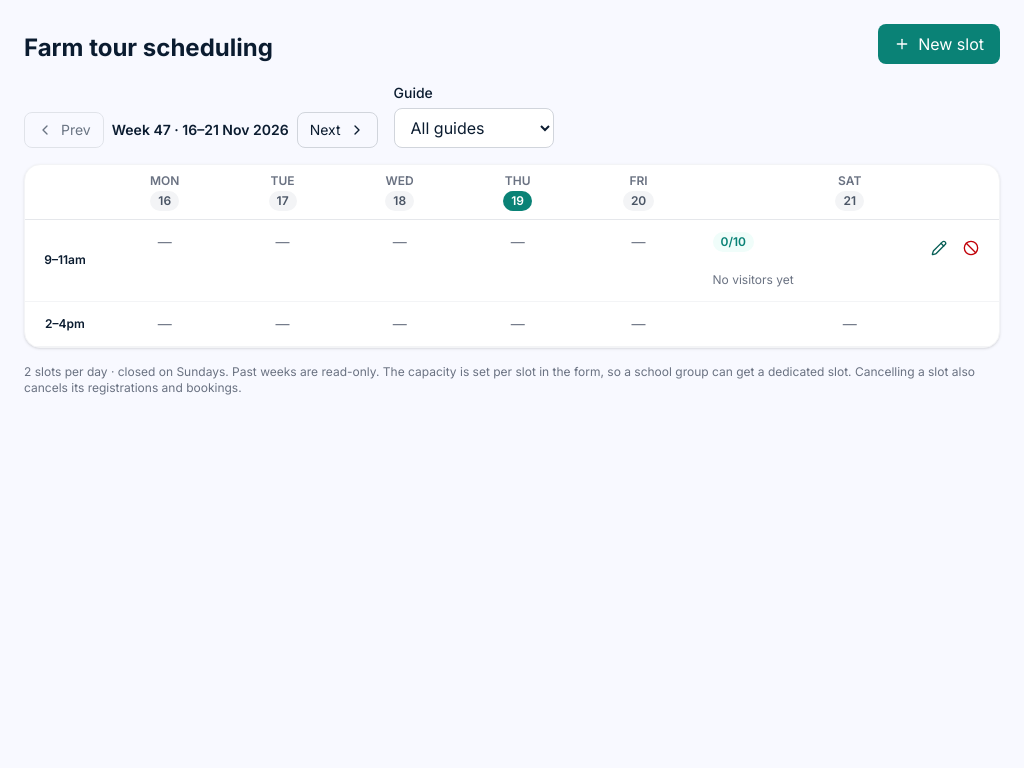
Test: SchedulingPage › confirms before cancelling a slot
This screenshot has width=1024, height=768.
Click the button named "cancel".
click(971, 248)  # box [955, 232, 987, 264]
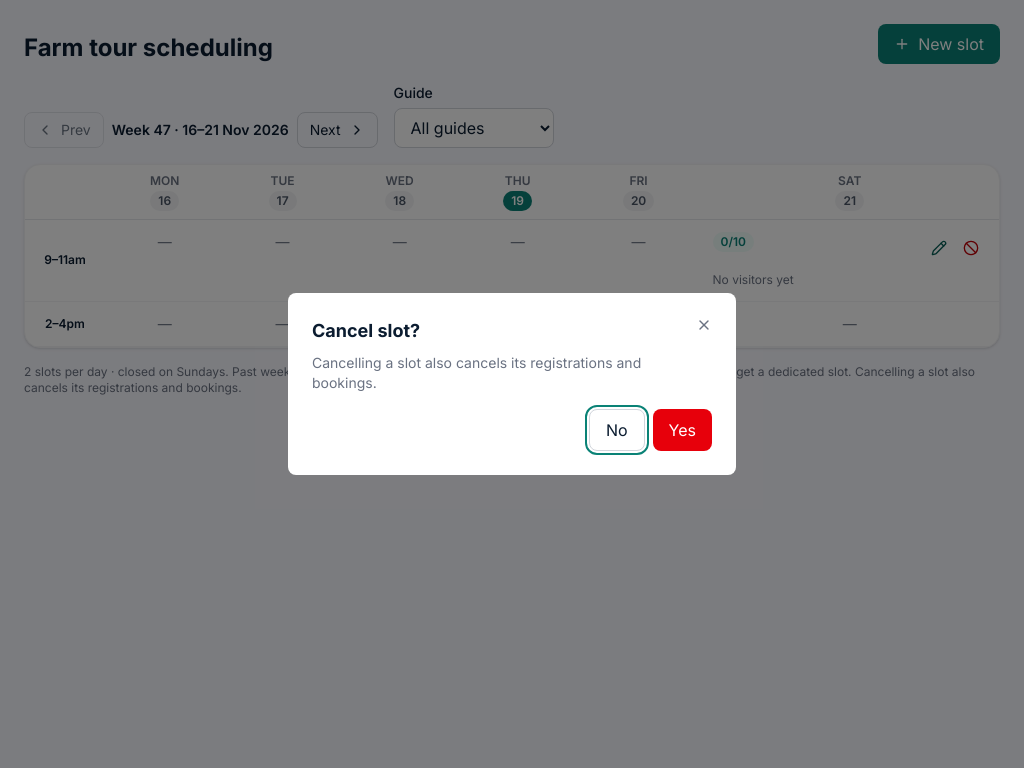
Check: the text "Cancelling a slot also cancels its registrations and bookings." is shown, box [312, 353, 672, 393]
Click the button "Yes".
click(682, 430)  # box [653, 409, 712, 451]
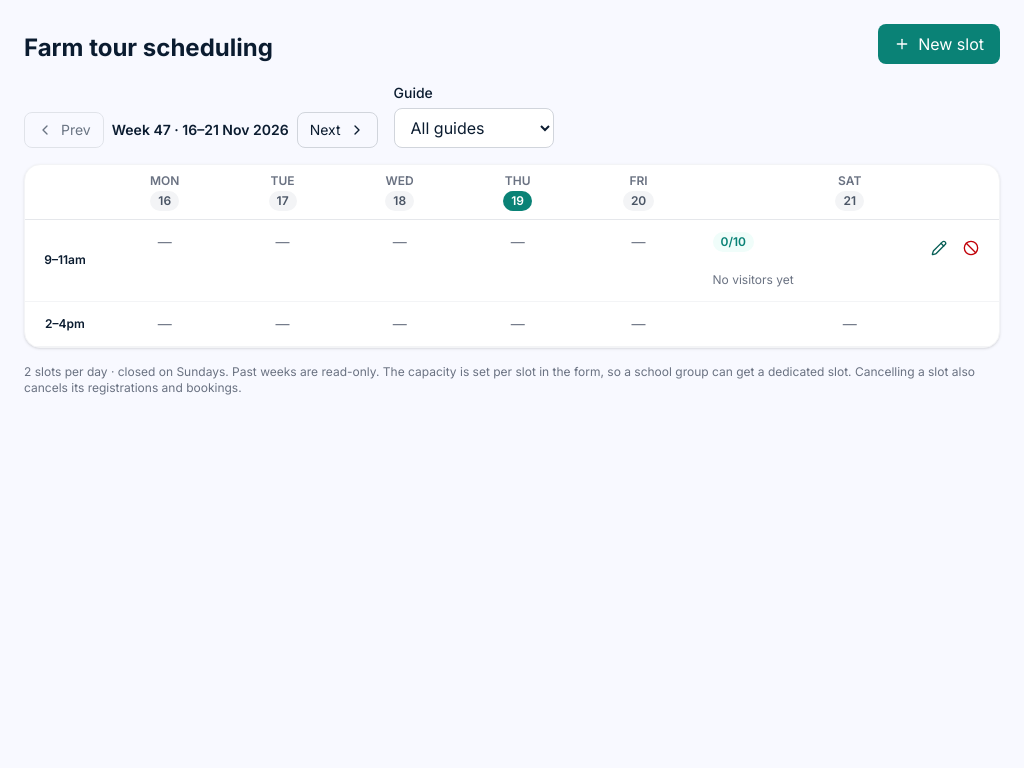
Check: the dialog is gone
